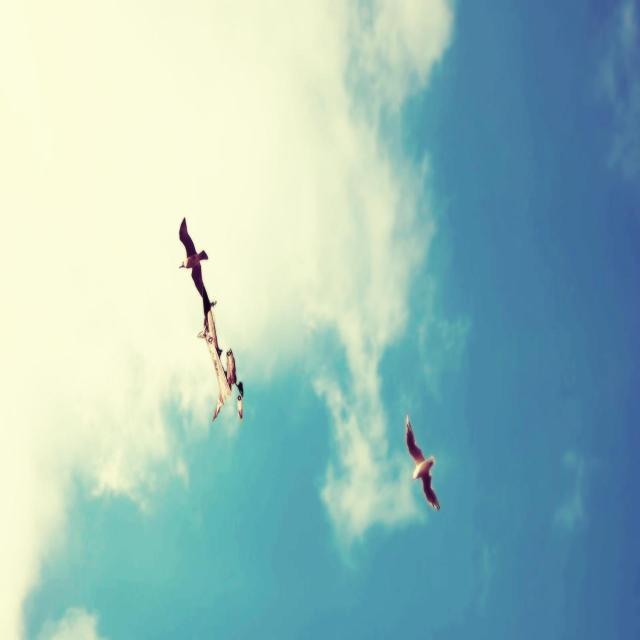airplane: (198, 310, 245, 424)
